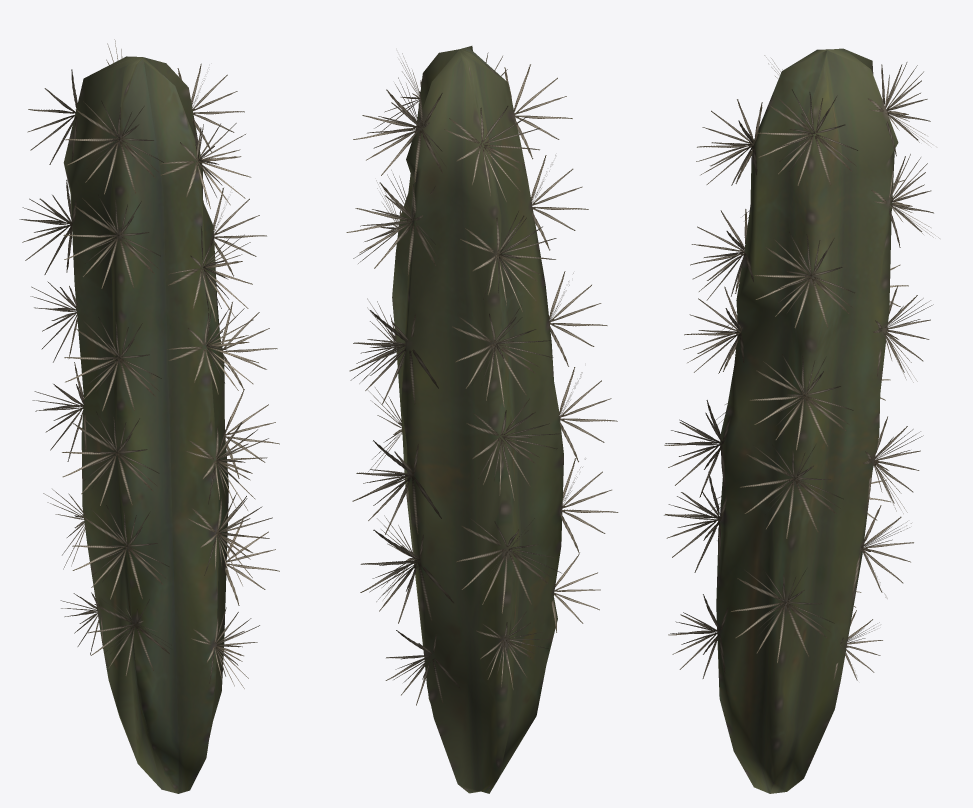
The model's file is Scene_Tree_XianRenZhang_1.FBX.
3 renders of one model, left to right at view 1: azimuth 30°, elevation 25°; view 2: azimuth 150°, elevation 25°; view 3: azimuth 270°, elevation 25°, orthographic. The views are drawn at different scales.
Visible parts, largest first — view 1: Scene_Tree_XianRenZhang_1a, Scene_Tree_XianRenZhang_1b; view 2: Scene_Tree_XianRenZhang_1a, Scene_Tree_XianRenZhang_1b; view 3: Scene_Tree_XianRenZhang_1a, Scene_Tree_XianRenZhang_1b.
Part boxes in pixels (left/top/right/bottom): Scene_Tree_XianRenZhang_1a: left=63, top=56, right=228, bottom=793; Scene_Tree_XianRenZhang_1b: left=19, top=39, right=279, bottom=688; Scene_Tree_XianRenZhang_1a: left=392, top=46, right=563, bottom=793; Scene_Tree_XianRenZhang_1b: left=346, top=52, right=618, bottom=705; Scene_Tree_XianRenZhang_1a: left=716, top=48, right=898, bottom=793; Scene_Tree_XianRenZhang_1b: left=664, top=55, right=939, bottom=681.
Size of the model in its own units: 60.12 by 167 by 60.89.
